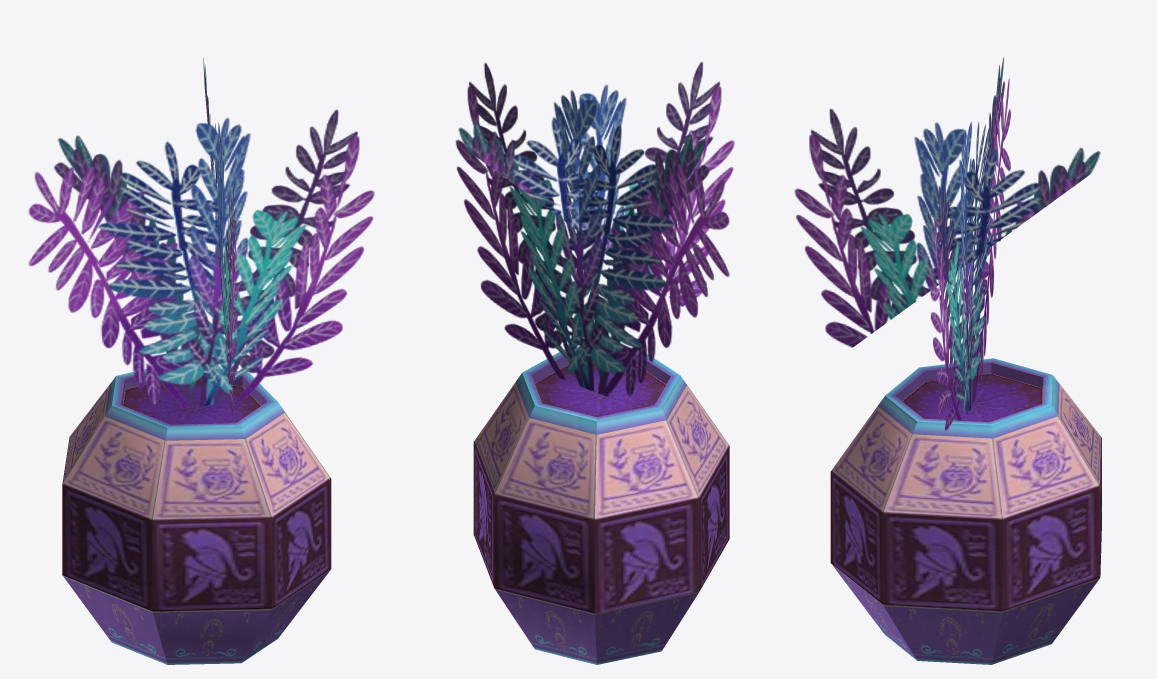
File: pm-pot-01-art.001-vapor.glb
3 renders of one model, left to right at view 1: azimuth 30°, elevation 25°; view 2: azimuth 150°, elevation 25°; view 3: azimuth 270°, elevation 25°, orthographic. The views are drawn at different scales.
Parts seen in each view (by area): view 1: Pot_01_Art.001_Vapor; view 2: Pot_01_Art.001_Vapor; view 3: Pot_01_Art.001_Vapor.
Part boxes in pixels (box(x1,y1,x2,y2)): Pot_01_Art.001_Vapor: box(28, 57, 374, 664); Pot_01_Art.001_Vapor: box(455, 62, 734, 664); Pot_01_Art.001_Vapor: box(794, 57, 1101, 664).
Size of the model in its own units: 1.59 by 2.43 by 1.48.
Materials: 2 (2 with a texture image).
